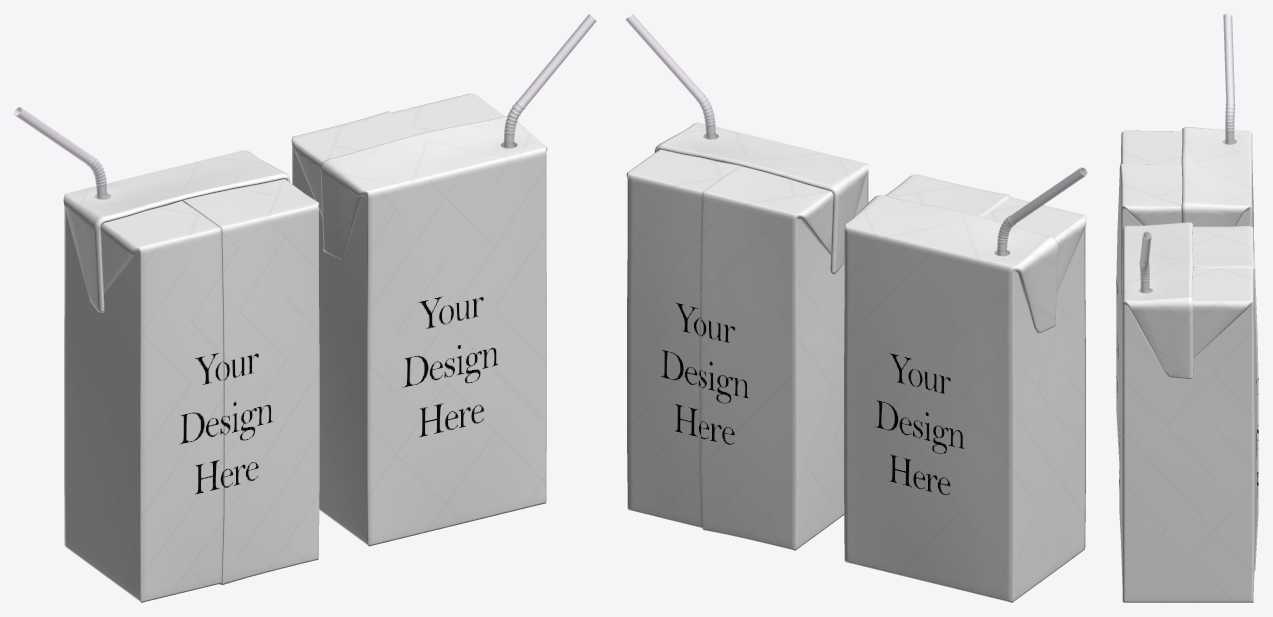
File: Beverage A-1.glb
3 renders of one model, left to right at view 1: azimuth 30°, elevation 25°; view 2: azimuth 150°, elevation 25°; view 3: azimuth 270°, elevation 25°, orthographic. The views are drawn at different scales.
Parts seen in each view (by area): view 1: Object_2, Object_2.002, Object_3.001, Object_3; view 2: Object_2, Object_2.002, Object_3.001, Object_3; view 3: Object_2.002, Object_2, Object_3, Object_3.001.
Boxes of the visible parts, x1,y1,x2,y2 form: Object_2: (63, 150, 319, 602); Object_2.002: (291, 93, 547, 546); Object_3.001: (503, 14, 596, 148); Object_3: (14, 107, 107, 199); Object_2: (844, 174, 1086, 602); Object_2.002: (626, 122, 868, 550); Object_3.001: (625, 14, 715, 139); Object_3: (997, 167, 1087, 255); Object_2.002: (1119, 222, 1258, 602); Object_2: (1116, 127, 1254, 465); Object_3: (1223, 14, 1235, 144); Object_3.001: (1139, 231, 1151, 293).
Size of the model in its own units: 22.54 by 18.81 by 6.11.
Materials: 3 (1 with a texture image).
